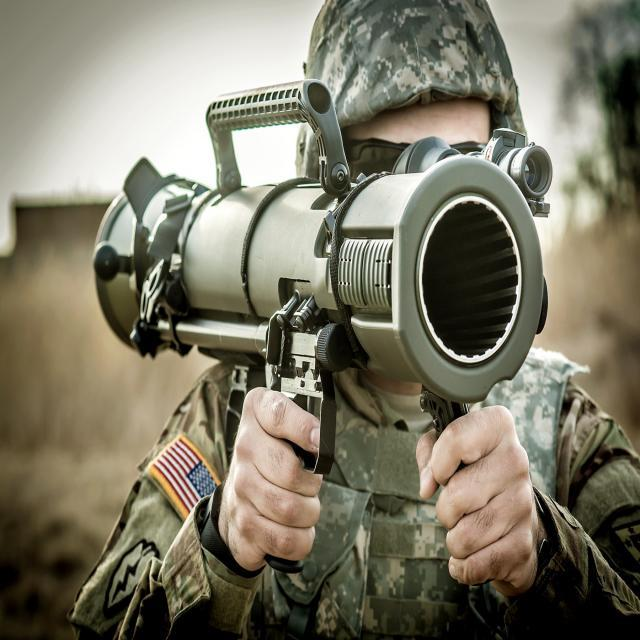rocket launcher: (119, 182, 523, 362)
scope: (502, 136, 549, 187)
